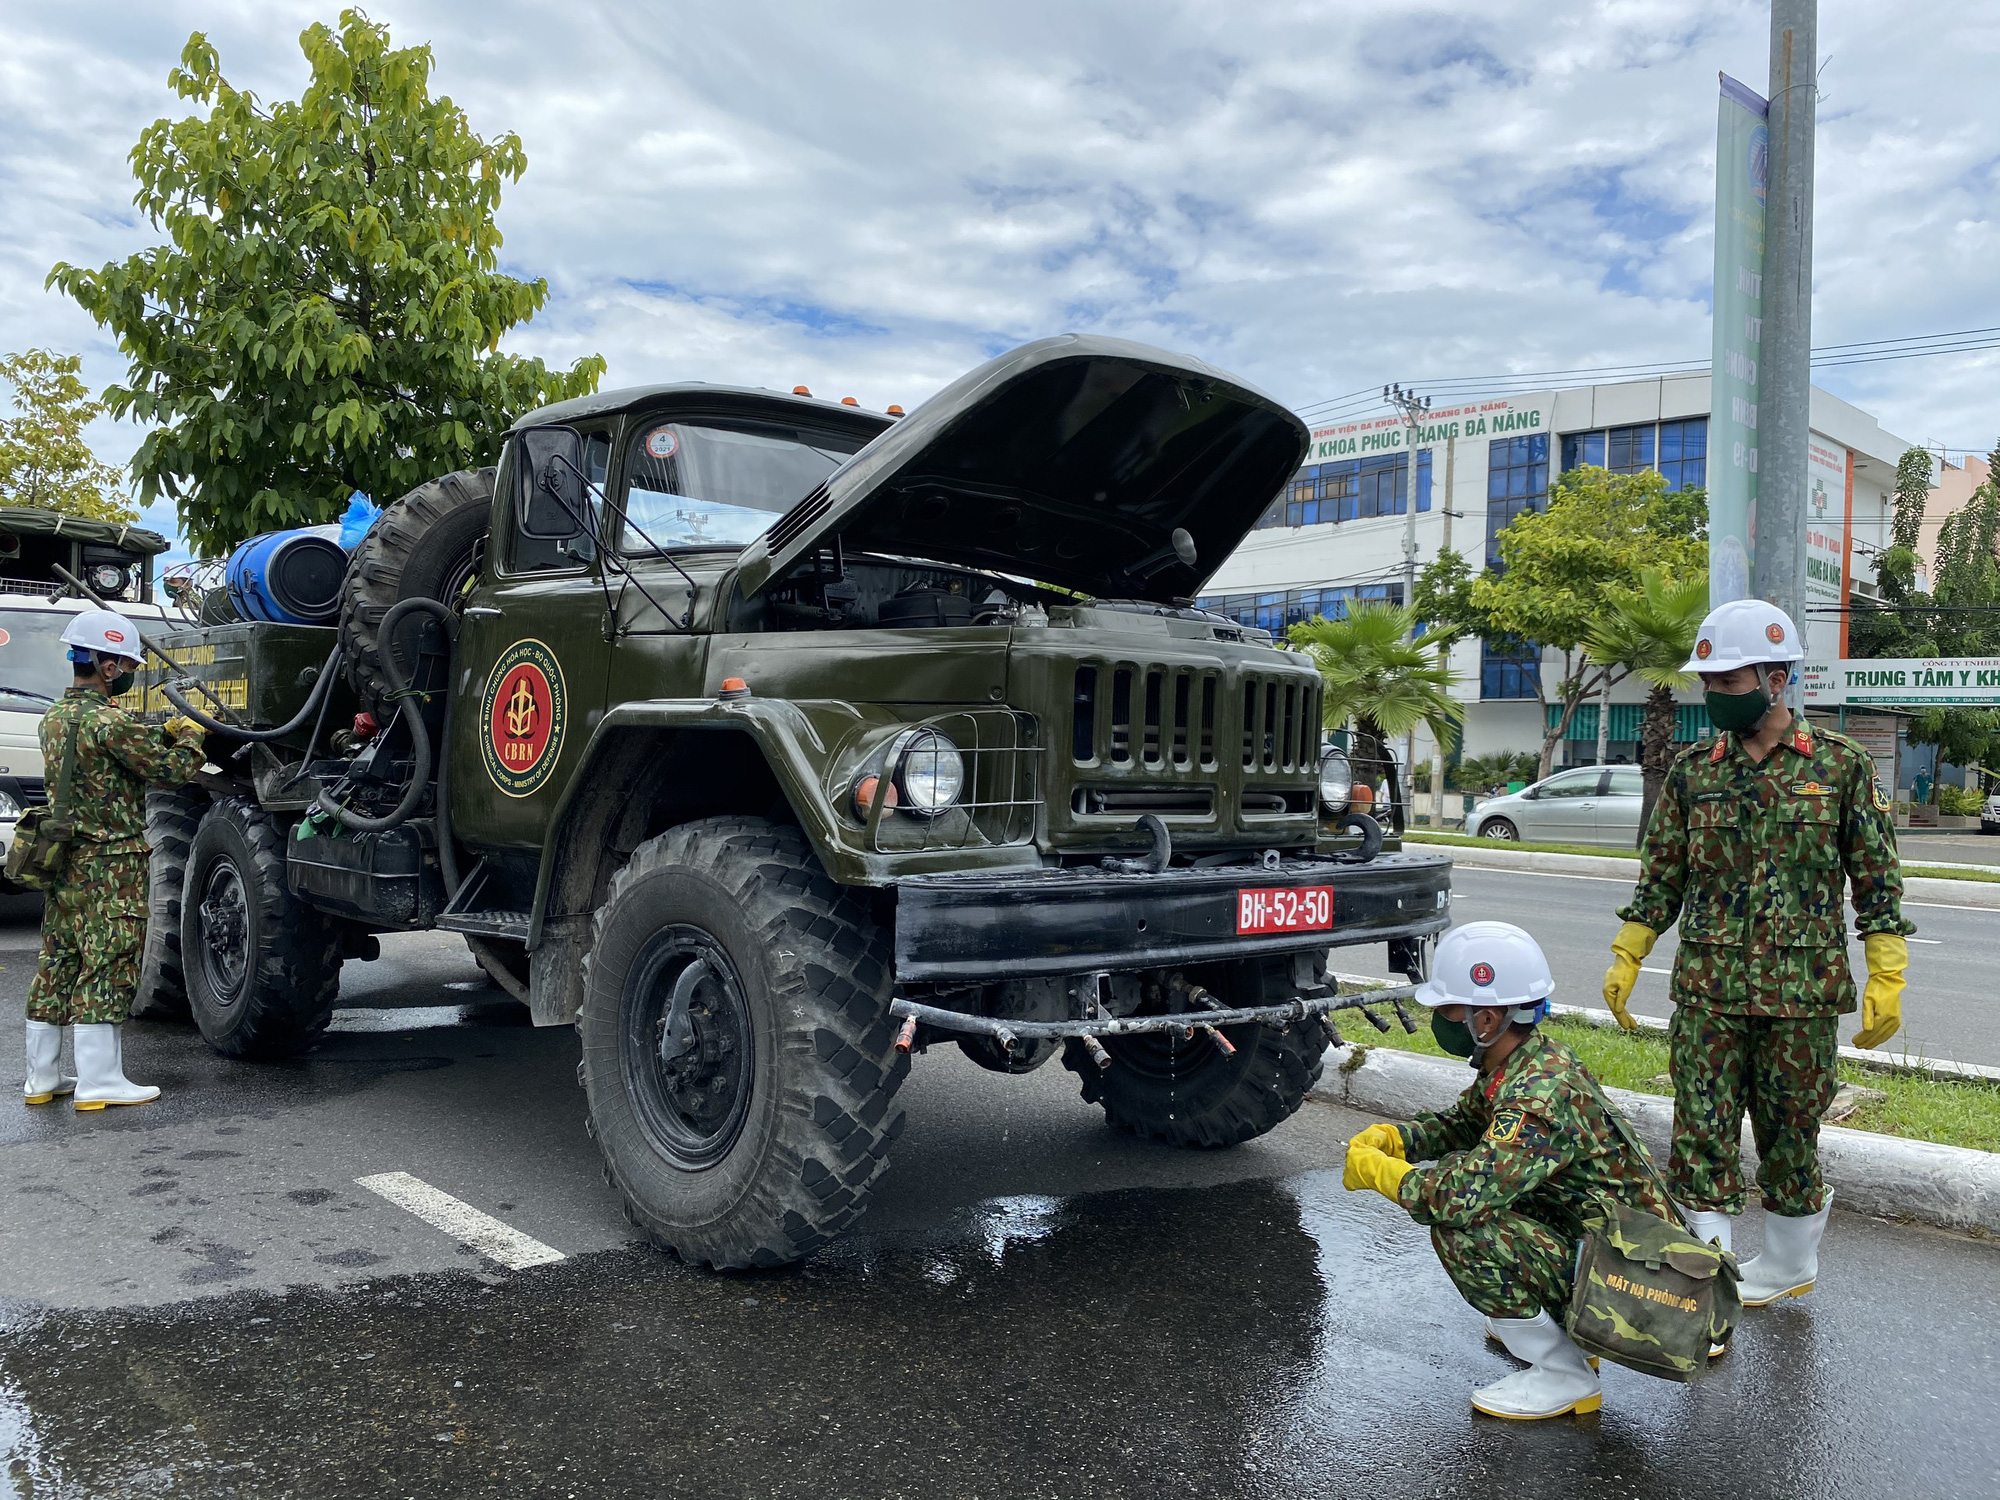plate: (1228, 883, 1341, 946)
